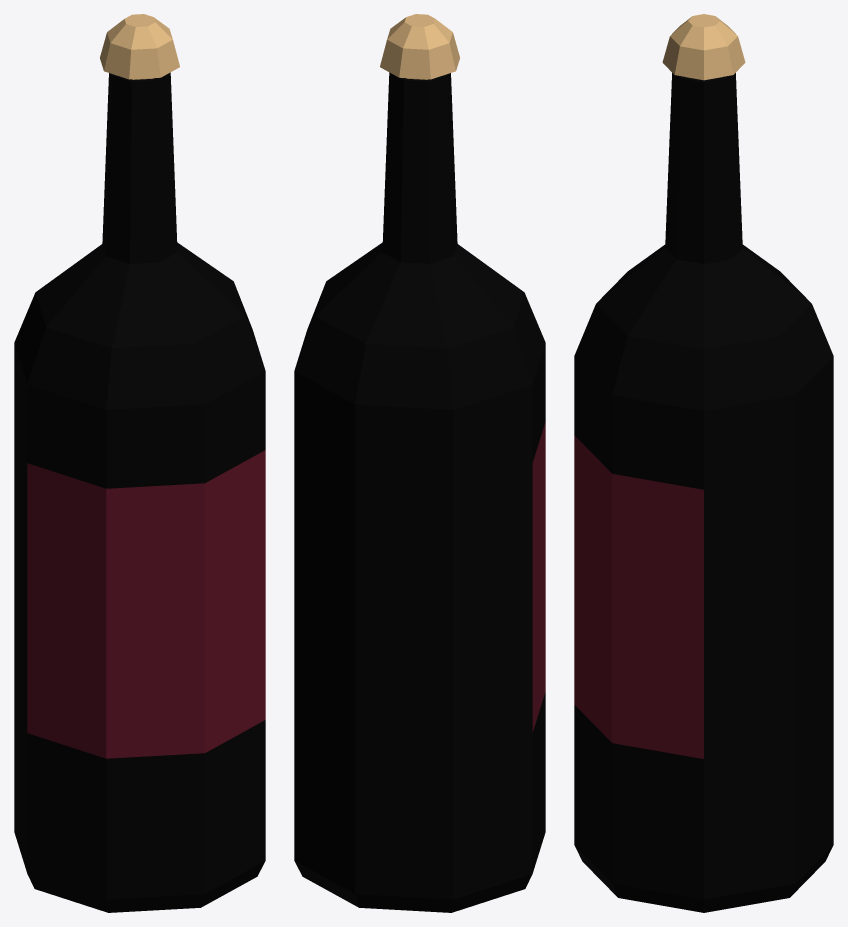
The model's file is Ma_Drink_1.fbx.
The picture shows the model from 3 angles, left to right: view 1: azimuth 30°, elevation 25°; view 2: azimuth 150°, elevation 25°; view 3: azimuth 270°, elevation 25°; orthographic projection.
Parts seen in each view (by area): view 1: Ma_Drink_1; view 2: Ma_Drink_1; view 3: Ma_Drink_1.
Boxes of the visible parts, bbox=[...] form: Ma_Drink_1: bbox=[14, 14, 265, 912]; Ma_Drink_1: bbox=[294, 14, 545, 912]; Ma_Drink_1: bbox=[574, 14, 833, 912].
Size of the model in its own units: 83.72 by 83.72 by 302.
